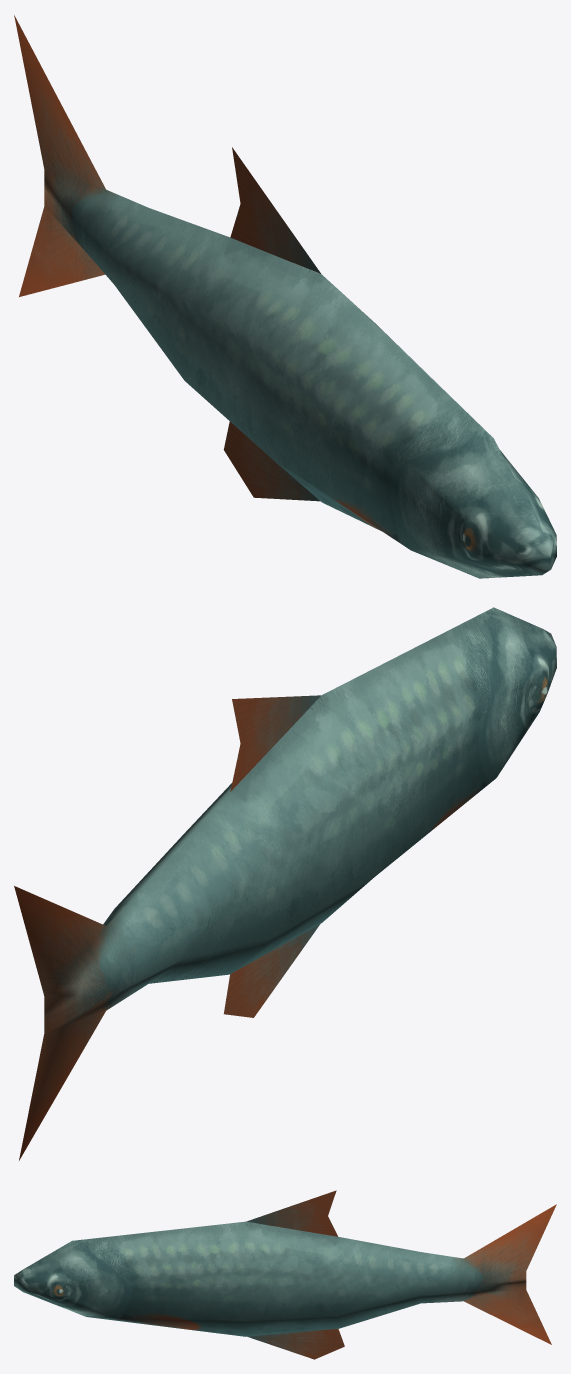
Rendered from SwarmFish_v3.fbx.
3 views of the same model, one above another, from view 1: azimuth 30°, elevation 25°; view 2: azimuth 150°, elevation 25°; view 3: azimuth 270°, elevation 25° (orthographic). The views are drawn at different scales.
Visible parts, largest first — view 1: SwarmFish, Fin, Fin1; view 2: SwarmFish, Fin, Fin1; view 3: SwarmFish, Fin, Fin1.
Boxes of the visible parts, x1,y1,x2,y2 form: SwarmFish: (14, 15, 556, 578); Fin: (230, 147, 320, 273); Fin1: (223, 421, 319, 501); SwarmFish: (14, 607, 556, 1160); Fin: (230, 695, 320, 791); Fin1: (224, 924, 320, 1017); SwarmFish: (14, 1204, 556, 1344); Fin: (246, 1190, 337, 1236); Fin1: (247, 1328, 344, 1359).
Bounding box in the file's own units: 1.1 × 3.37 × 9.81.
1 material, 1 textured.
